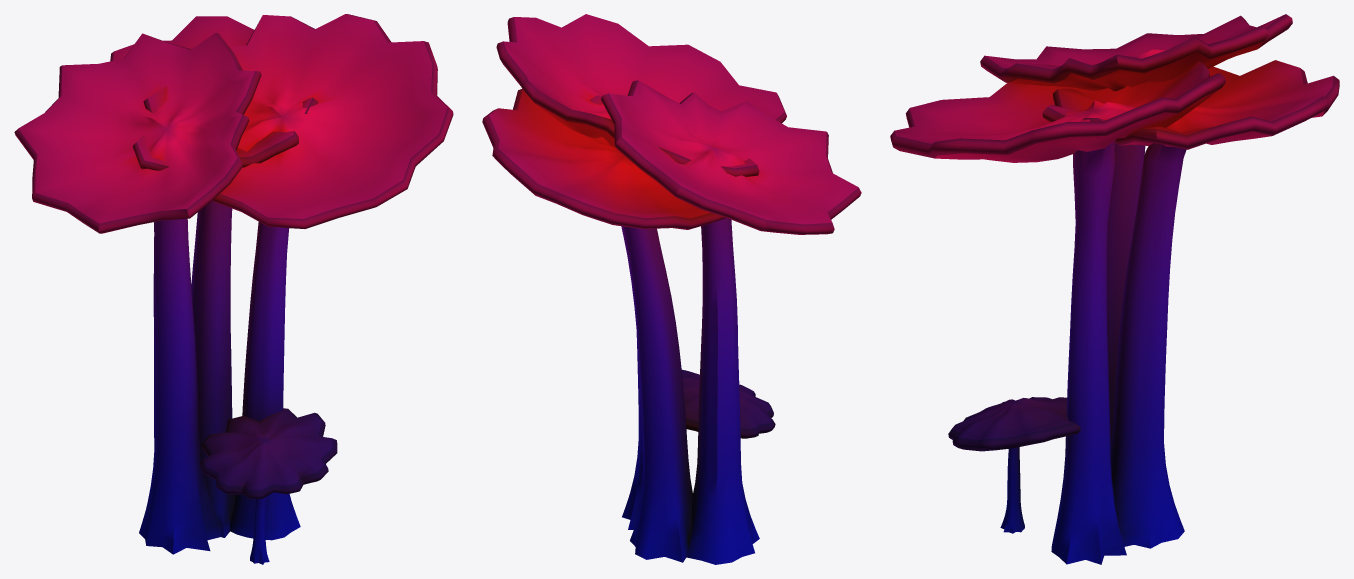
The model's file is MESH_Flora_CapStem_1811_00.fbx.
3 views of the same model, side by side, from view 1: azimuth 30°, elevation 25°; view 2: azimuth 150°, elevation 25°; view 3: azimuth 270°, elevation 25° (orthographic). The views are drawn at different scales.
Visible parts, largest first — view 1: MESH_Flora_CapStem_1811_00_LOD0; view 2: MESH_Flora_CapStem_1811_00_LOD0; view 3: MESH_Flora_CapStem_1811_00_LOD0.
Boxes of the visible parts, x1,y1,x2,y2 form: MESH_Flora_CapStem_1811_00_LOD0: [14, 14, 453, 564]; MESH_Flora_CapStem_1811_00_LOD0: [482, 14, 861, 564]; MESH_Flora_CapStem_1811_00_LOD0: [890, 14, 1339, 564].
Size of what is drawn, in the model's own units: 41.17 by 50.17 by 39.72.
